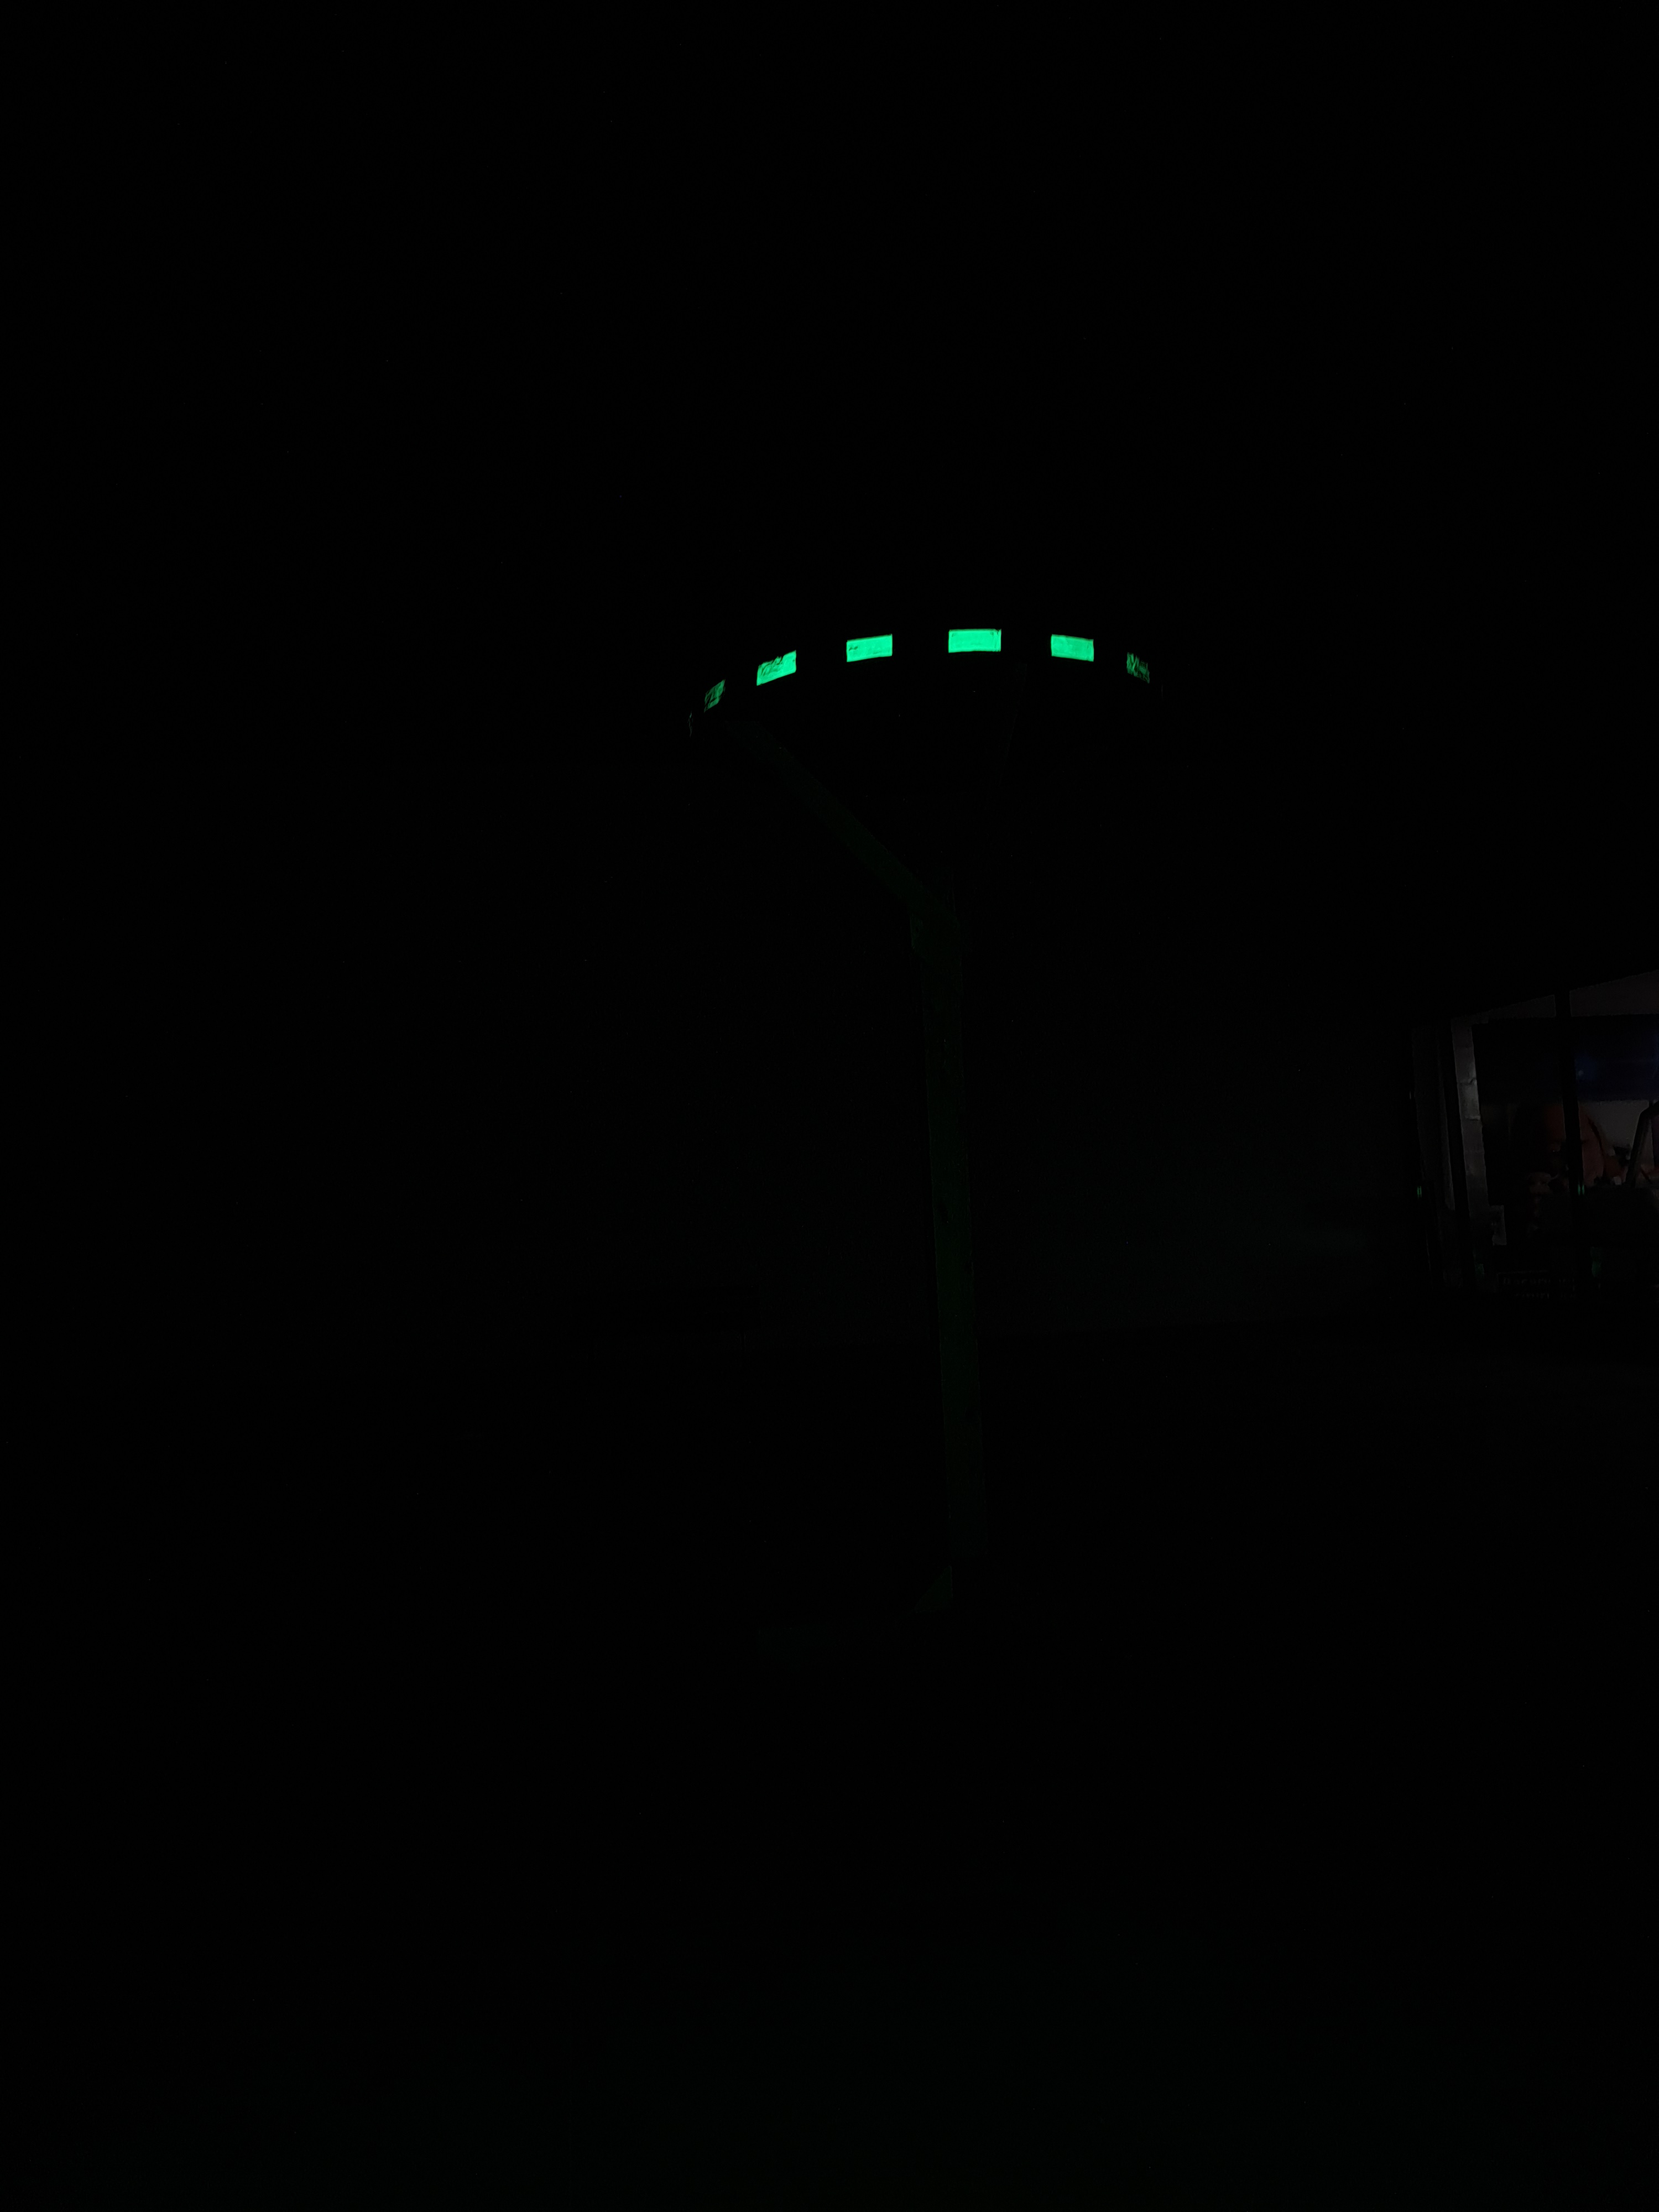hoop: (645, 613, 1201, 735)
